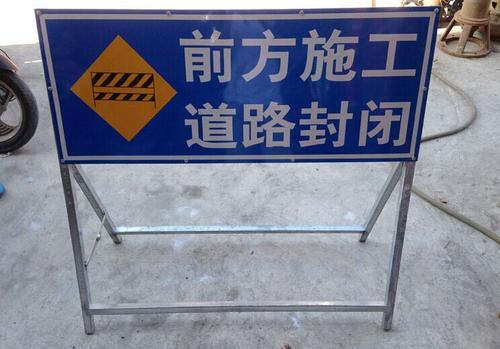sign: (35, 11, 424, 159)
